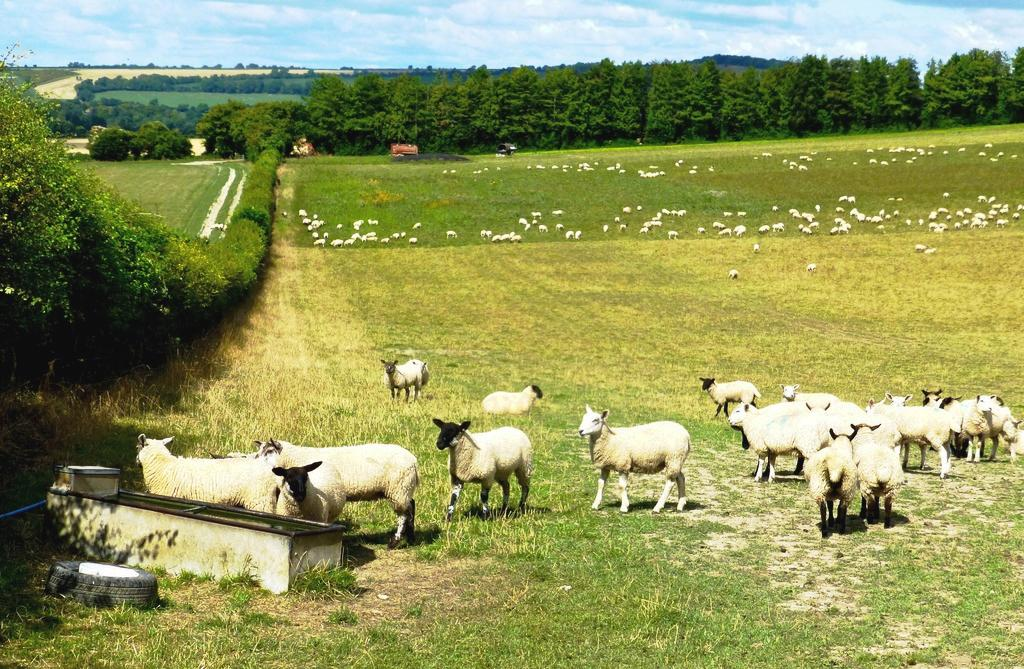Sheep: (256, 427, 427, 539), (574, 400, 695, 519), (131, 432, 277, 512), (430, 414, 536, 522), (866, 399, 955, 478), (274, 444, 346, 530), (727, 397, 800, 481), (800, 424, 853, 533), (854, 422, 900, 517), (775, 376, 844, 431), (473, 380, 557, 421), (699, 372, 765, 423), (919, 375, 965, 445), (381, 353, 439, 408), (962, 386, 992, 465), (873, 384, 915, 411), (727, 267, 742, 283), (804, 261, 818, 276), (508, 233, 522, 245), (801, 227, 815, 237), (768, 204, 780, 214), (408, 235, 418, 247), (313, 238, 325, 248), (828, 227, 839, 237), (1012, 211, 1021, 223)
